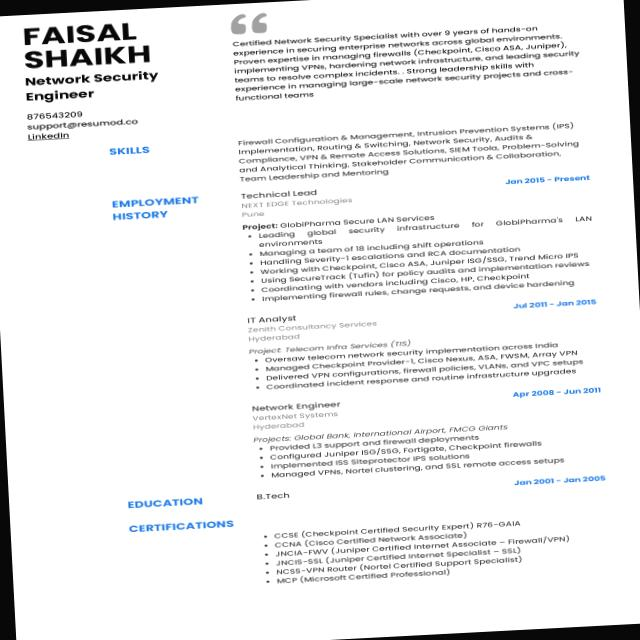contact: (20, 104, 146, 150)
education: (117, 468, 628, 514)
experience: (104, 168, 621, 492)
header: (7, 13, 163, 103)
skills: (103, 120, 604, 192)
summary: (224, 17, 619, 116)
